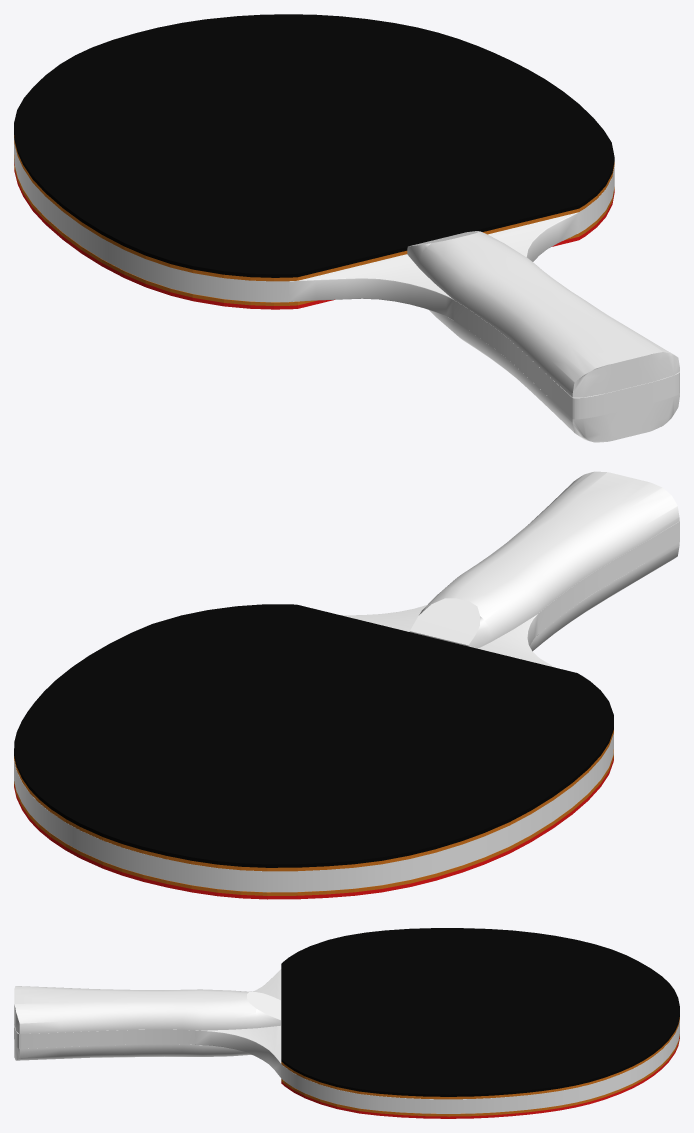
Rendered from ProRacket.FBX.
3 renders of one model, top to bottom at view 1: azimuth 30°, elevation 25°; view 2: azimuth 150°, elevation 25°; view 3: azimuth 270°, elevation 25°, orthographic. The views are drawn at different scales.
Parts seen in each view (by area): view 1: plastic, estructure; view 2: plastic, estructure; view 3: plastic, estructure.
Boxes of the visible parts, box(x1,y1,x2,y2) form: plastic: box(14, 14, 614, 309); estructure: box(14, 138, 679, 442); plastic: box(14, 604, 613, 899); estructure: box(14, 471, 679, 892); plastic: box(281, 928, 679, 1118); estructure: box(14, 969, 679, 1113).
Bounding box in the file's own units: 0.147 × 0.0221 × 0.2485.
